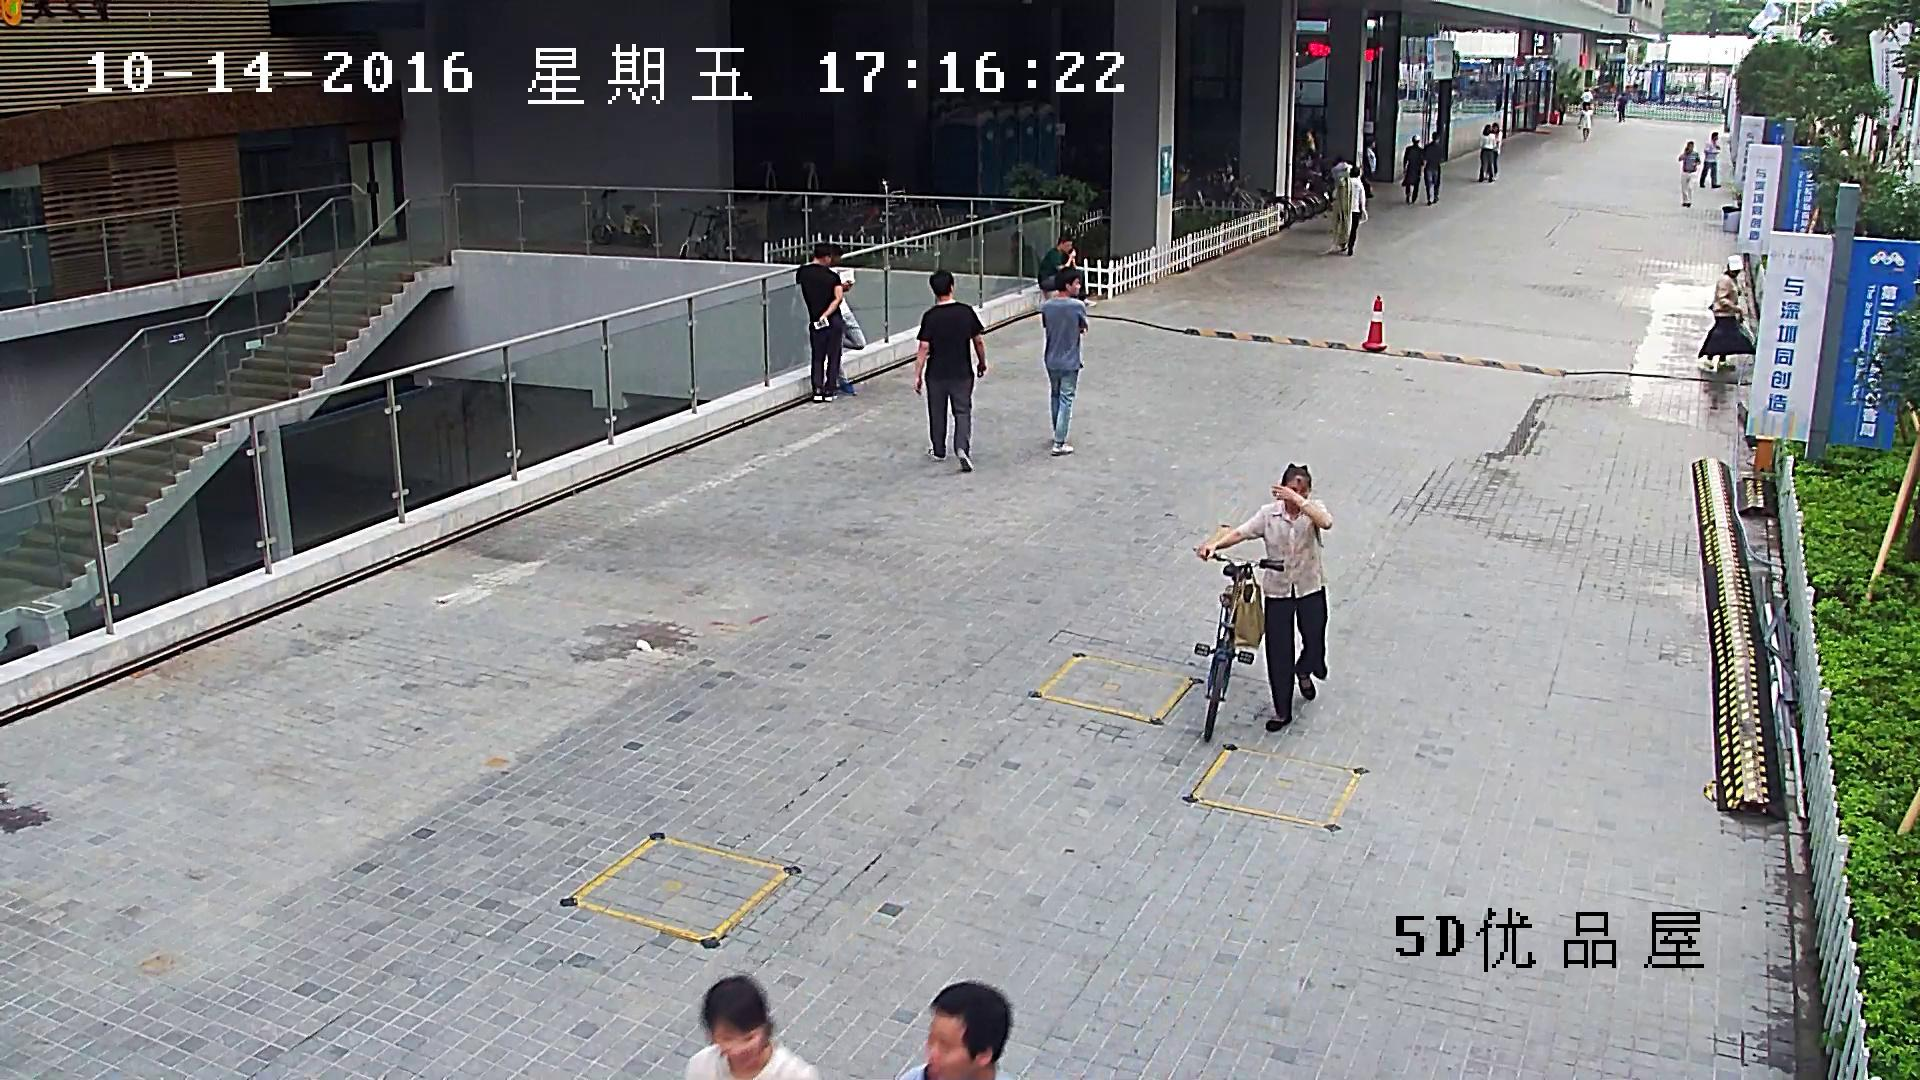person: (1191, 464, 1334, 740), (1197, 464, 1333, 730), (912, 269, 985, 472), (682, 978, 817, 1080), (1041, 266, 1088, 455), (795, 242, 844, 403), (1697, 254, 1755, 371), (831, 245, 866, 394), (1328, 166, 1367, 255), (1038, 235, 1088, 299), (992, 233, 1037, 293), (1401, 133, 1423, 206), (1678, 141, 1700, 207), (1424, 131, 1442, 204), (1700, 132, 1721, 187), (1478, 123, 1496, 182), (1486, 122, 1500, 177), (1576, 102, 1593, 142), (1365, 136, 1375, 198), (1872, 122, 1888, 164), (1331, 151, 1352, 179), (1617, 93, 1626, 122), (1581, 88, 1593, 110)
